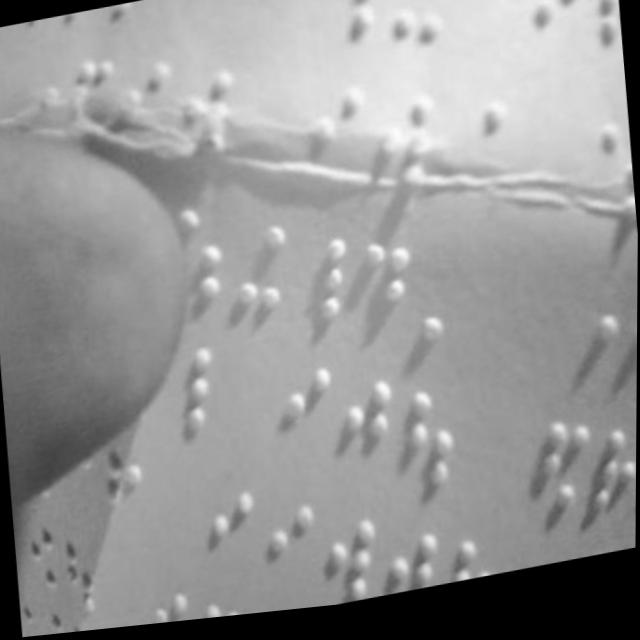braiile: (521, 415, 599, 532), (137, 339, 217, 449), (289, 230, 357, 347), (393, 397, 462, 511), (269, 362, 338, 476), (224, 224, 296, 331), (335, 381, 399, 493), (357, 239, 420, 351), (559, 290, 622, 395), (320, 514, 385, 614), (203, 483, 263, 590), (259, 504, 321, 607), (523, 0, 586, 96), (381, 0, 451, 66), (585, 0, 627, 108), (318, 0, 384, 65), (387, 528, 444, 603), (624, 303, 638, 408)
